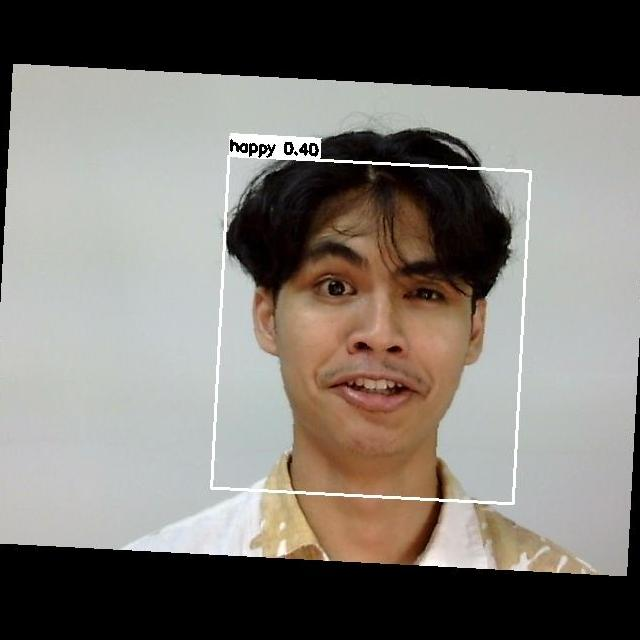Fear: (262, 226, 487, 435)
